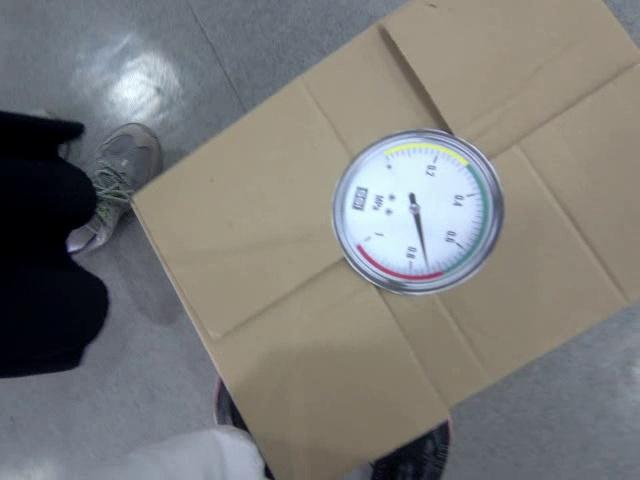Dashboard: (332, 128, 506, 293)
ssi: (353, 182, 368, 213)
